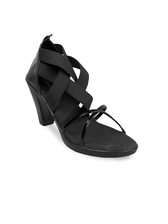shoes: (24, 31, 143, 165)
